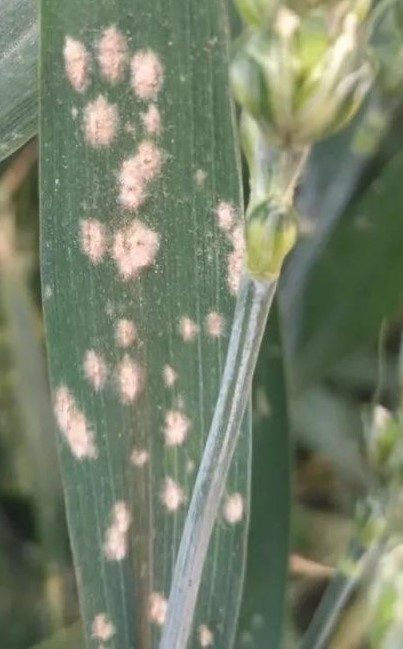Powdery Mildew: (52, 46, 257, 567)
